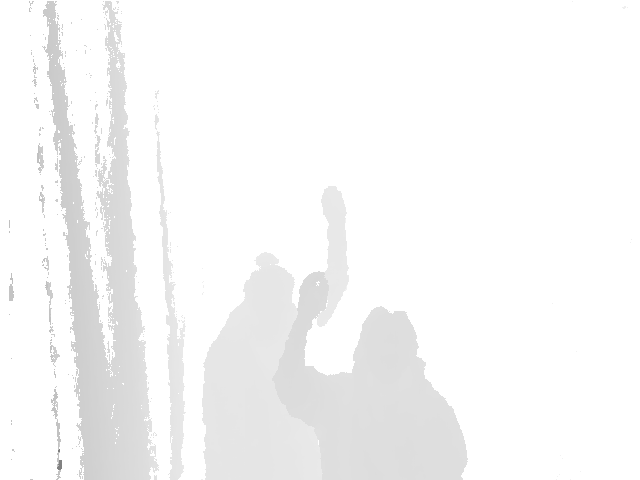hand: (298, 271, 329, 317), (321, 185, 347, 223)
head: (352, 306, 425, 379), (242, 252, 295, 325)
person: (199, 185, 349, 480), (271, 271, 469, 480)
